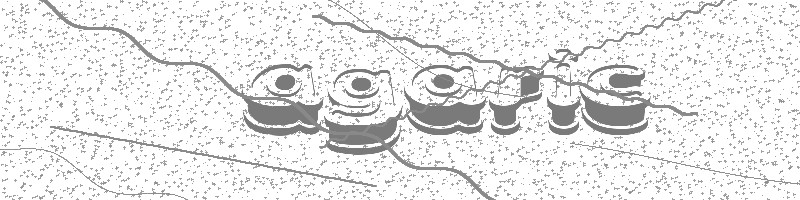a: (236, 59, 327, 138), (403, 61, 488, 135)
c: (579, 63, 652, 137)
g: (323, 66, 403, 153)
i: (545, 44, 582, 137)
r: (487, 60, 545, 137)
